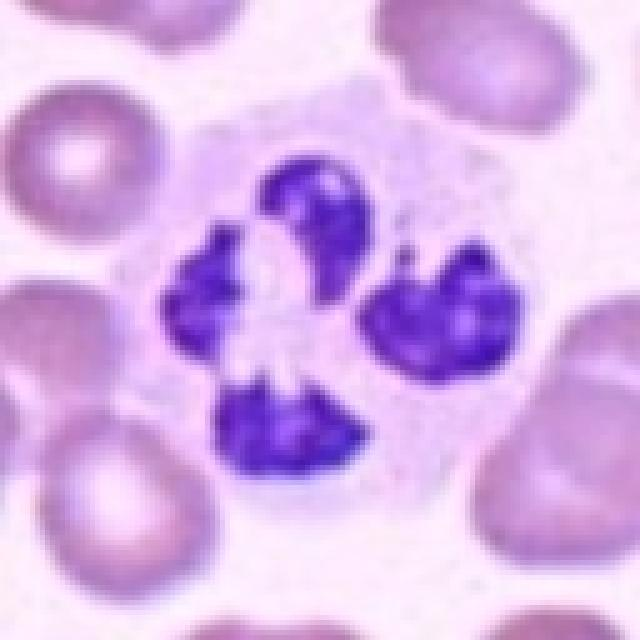neutro: (98, 101, 576, 558)
